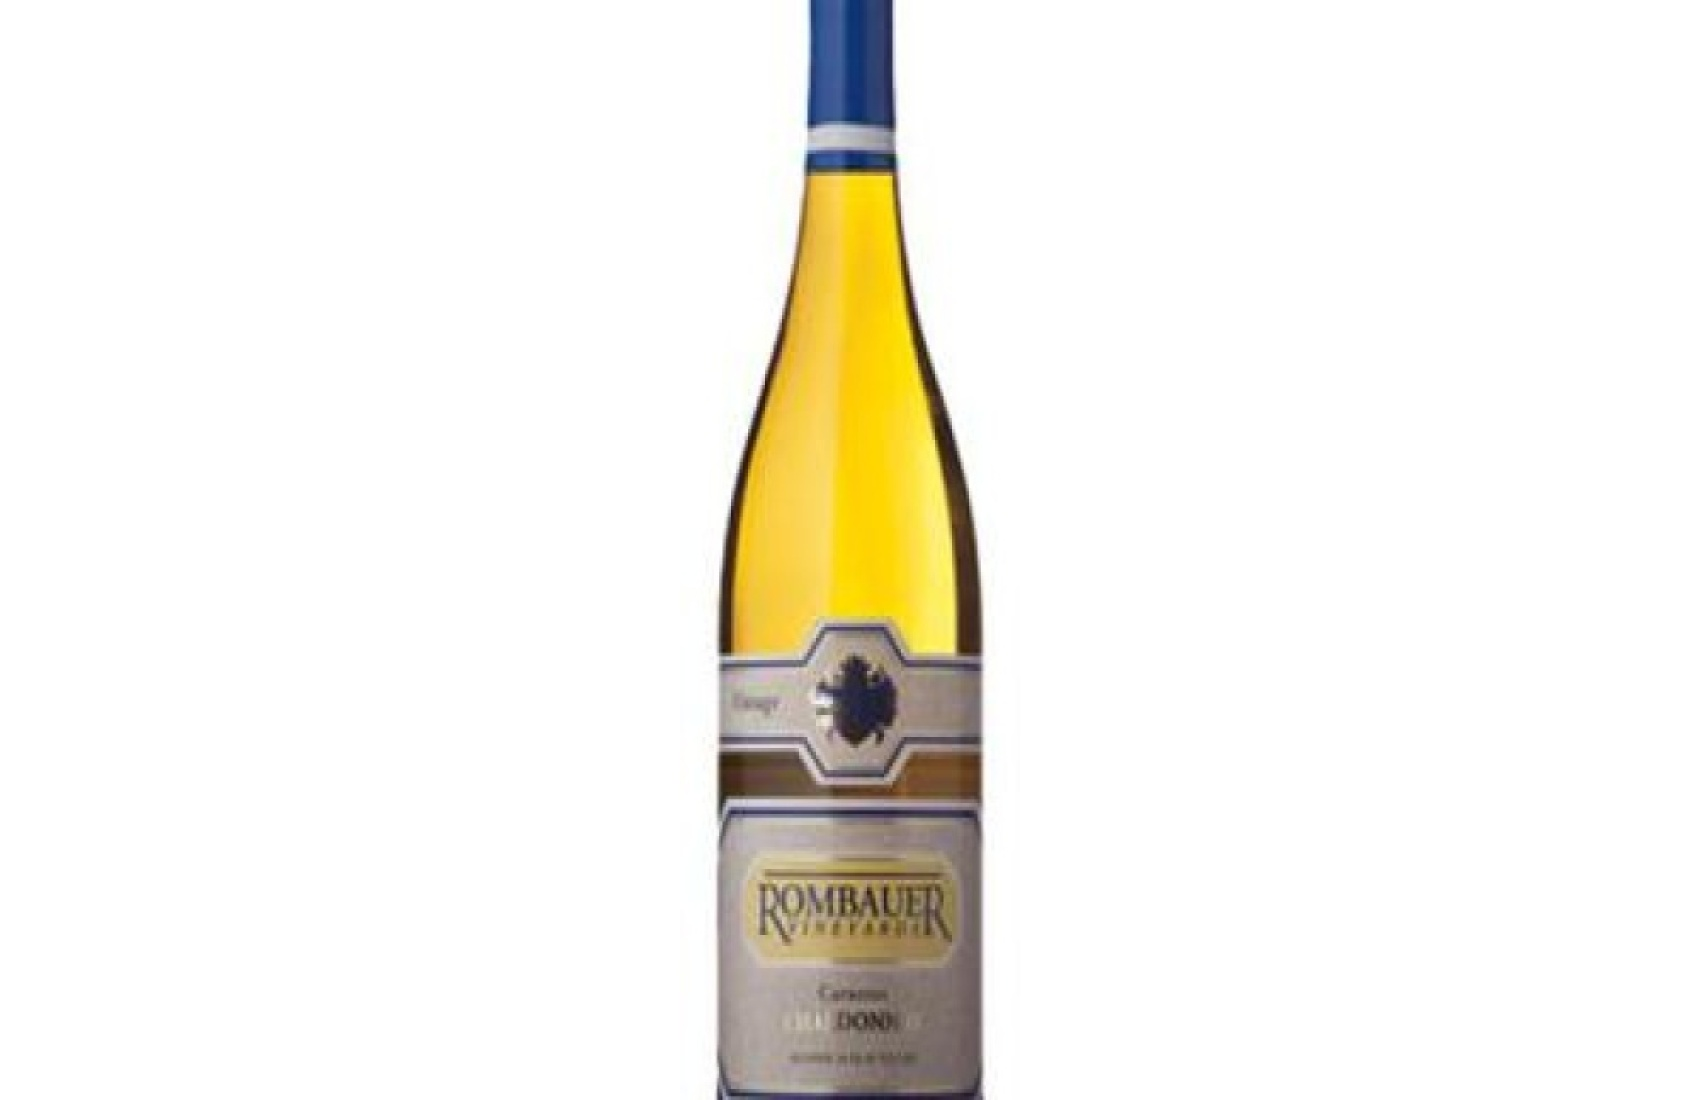wine: (724, 33, 976, 1094)
